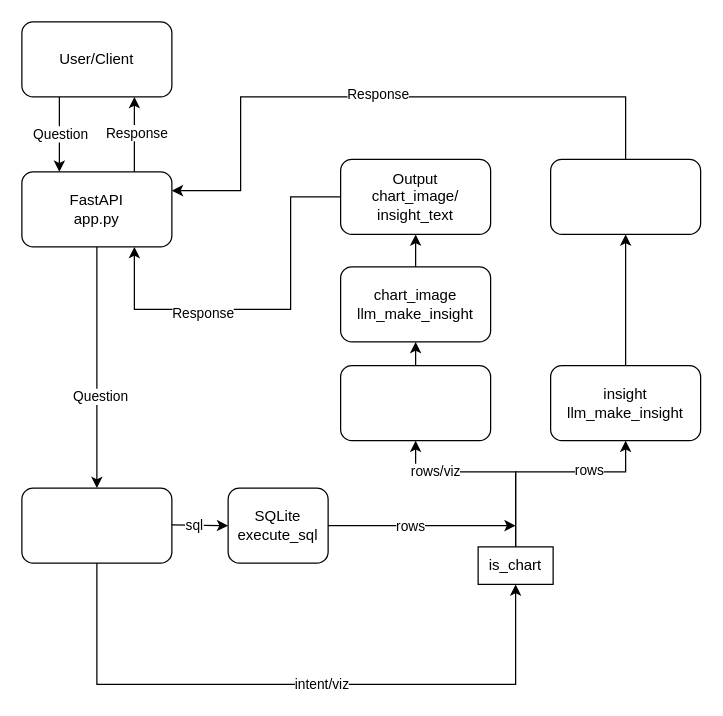
Image size: 723x716. Some labels were removed from this diagram. Here are the shapes that lost their labels. From the top down, the centre of each, then its label:
point (625, 196): Output insight_text
point (415, 402): chart make_chart_png
point (96, 525): Gemini llm_generate_sql
